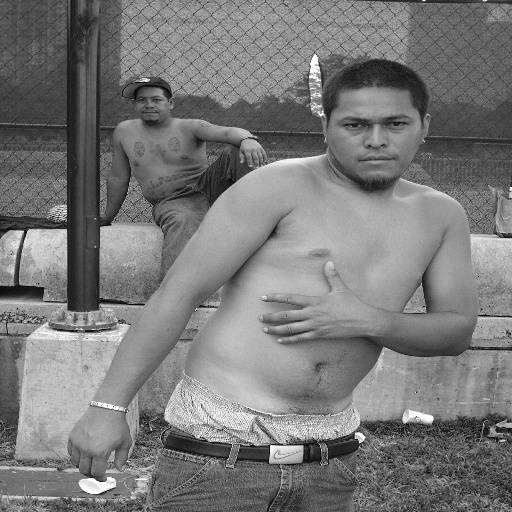hand: (259, 259, 374, 345), (65, 406, 133, 482), (238, 137, 268, 168), (100, 212, 111, 222)
